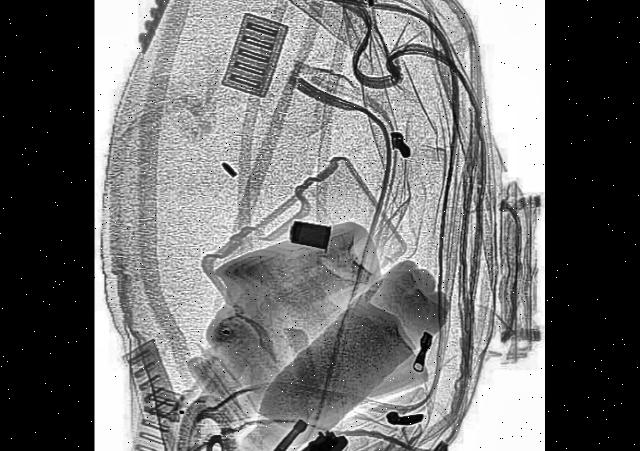Gun: (185, 423, 354, 451), (182, 420, 312, 451)
